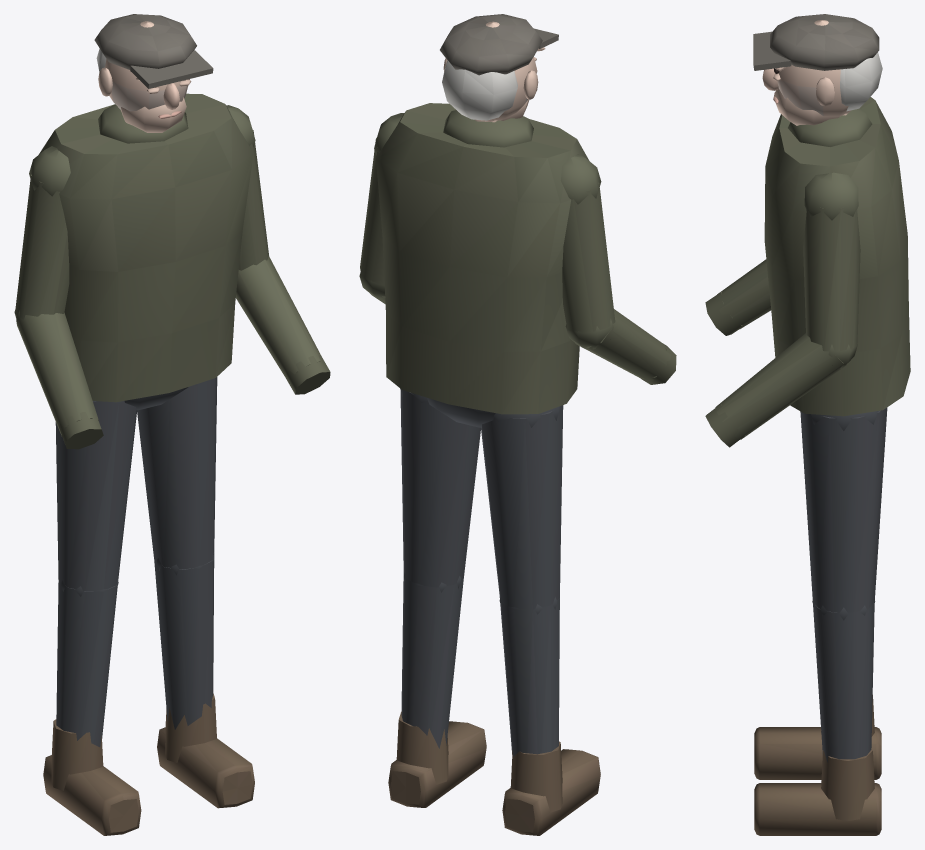
The model's file is ellis_standing_a.glb.
The picture shows the model from 3 angles, left to right: view 1: azimuth 30°, elevation 25°; view 2: azimuth 150°, elevation 25°; view 3: azimuth 270°, elevation 25°; orthographic projection.
Parts seen in each view (by area): view 1: body; view 2: body; view 3: body.
Part boxes in pixels (x1,y1,x2,y2): body: (14, 14, 330, 835); body: (359, 14, 676, 835); body: (705, 14, 910, 835).
Bounding box in the file's own units: 0.6183 × 1.73 × 0.4109.
